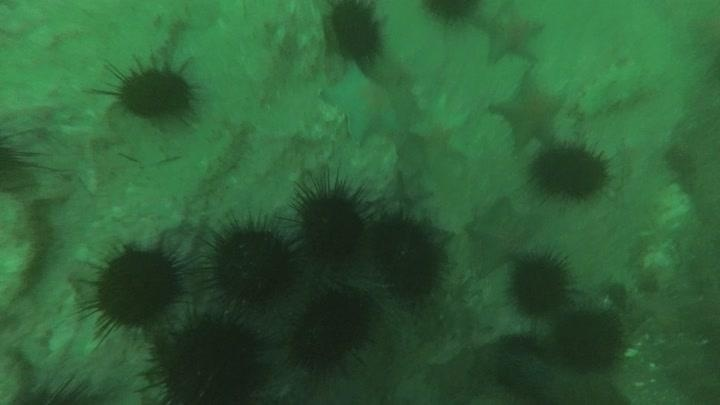echinus: (143, 307, 272, 405), (85, 240, 188, 334), (200, 216, 301, 311), (365, 210, 450, 303), (287, 286, 375, 374), (289, 177, 370, 265), (108, 56, 199, 123), (529, 140, 612, 202), (552, 306, 626, 373), (505, 249, 574, 318), (491, 338, 558, 403), (6, 363, 104, 404), (325, 2, 387, 63), (1, 120, 48, 194), (417, 1, 486, 29)
holothurian: (576, 60, 658, 118)
starfish: (319, 62, 403, 145), (489, 70, 567, 148), (466, 197, 541, 272), (408, 94, 473, 165), (476, 5, 547, 66), (426, 348, 499, 404), (376, 168, 435, 221)
